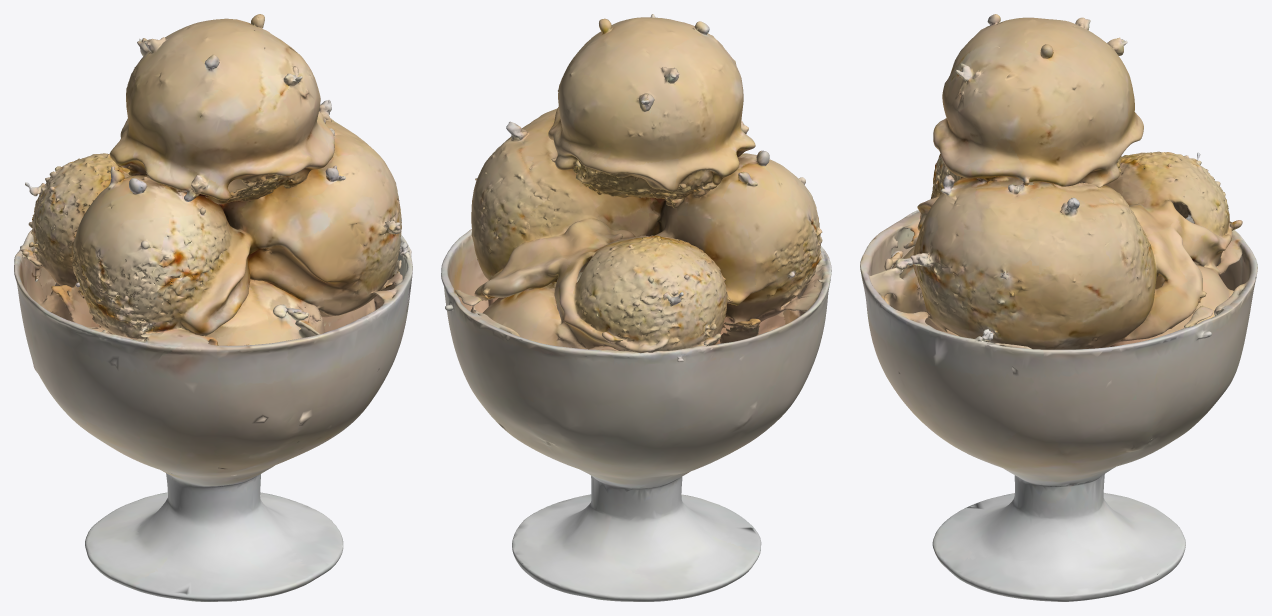
The model's file is Salted_Caramel.glb.
The picture shows the model from 3 angles, left to right: view 1: azimuth 30°, elevation 25°; view 2: azimuth 150°, elevation 25°; view 3: azimuth 270°, elevation 25°; orthographic projection. The views are drawn at different scales.
Size of the model in its own units: 1.27 by 1.85 by 1.27.
Materials: 1 (1 with a texture image).
